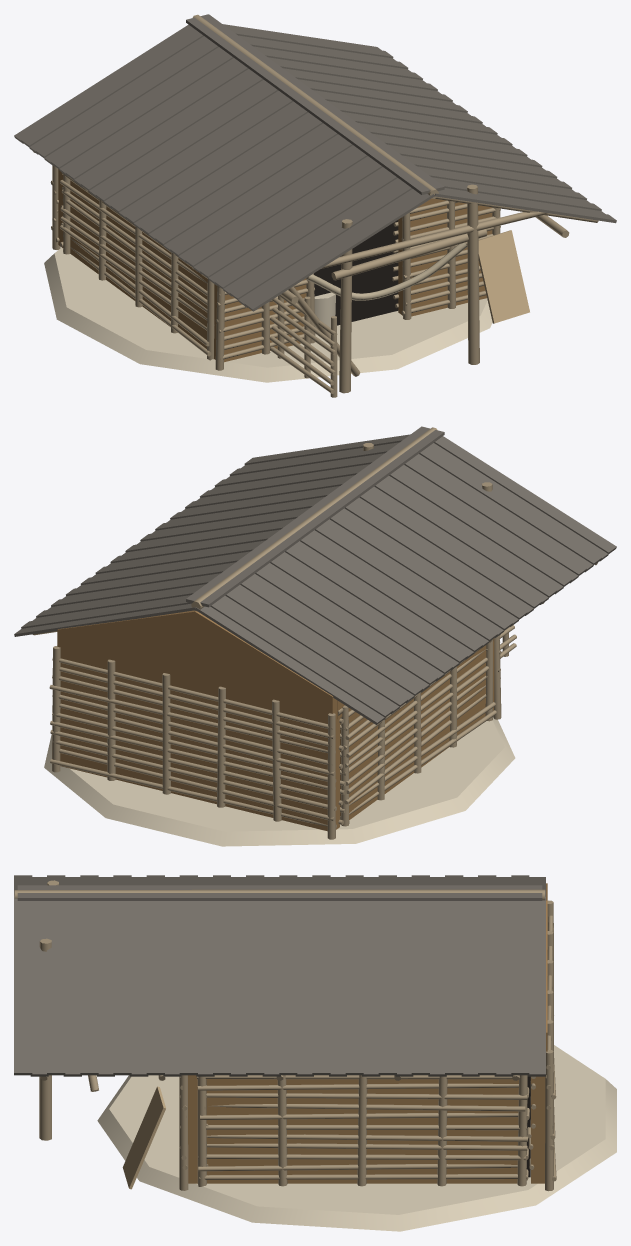
The model's file is bahareque-house-medium.glb.
3 renders of one model, top to bottom at view 1: azimuth 30°, elevation 25°; view 2: azimuth 150°, elevation 25°; view 3: azimuth 270°, elevation 25°, orthographic. The views are drawn at different scales.
Visible parts, largest first — view 1: roof_left, roof_right, ground, ridge_cap, wall_left_daub, leaning_plank, interior, fence, wall_front_right_daub, wall_left, porch_post_r, wall_front_left_daub (+18 smaller); view 2: roof_left, roof_right, ground, wall_back_daub, gable_back, wall_back, ridge_cap, wall_left_daub, wall_left, ridge_beam, wall_back_stick_1_o, wall_back_stick_3_o (+18 smaller); view 3: roof_right, ground, wall_right_daub, ridge_cap, roof_left, wall_right, ridge_beam, wall_back, wall_right_stick_8_o, wall_right_stick_2_o, wall_right_stick_9_o, wall_right_stick_3_o (+12 smaller).
Part boxes in pixels (x1=…): roof_left: x1=14, y1=24, x2=434, y2=311; roof_right: x1=223, y1=24, x2=616, y2=223; ground: x1=44, y1=247, x2=492, y2=382; ridge_cap: x1=186, y1=14, x2=444, y2=194; wall_left_daub: x1=70, y1=180, x2=207, y2=348; leaning_plank: x1=478, y1=230, x2=529, y2=323; interior: x1=314, y1=220, x2=398, y2=325; fence: x1=269, y1=295, x2=337, y2=393; wall_front_right_daub: x1=398, y1=198, x2=492, y2=316; wall_left: x1=63, y1=173, x2=214, y2=360; porch_post_r: x1=467, y1=184, x2=479, y2=364; wall_front_left_daub: x1=214, y1=278, x2=306, y2=362; roof_left: x1=195, y1=436, x2=616, y2=724; roof_right: x1=14, y1=434, x2=410, y2=636; ground: x1=44, y1=717, x2=515, y2=846; wall_back_daub: x1=60, y1=654, x2=339, y2=831; gable_back: x1=57, y1=610, x2=337, y2=719; wall_back: x1=52, y1=646, x2=335, y2=839; ridge_cap: x1=186, y1=426, x2=444, y2=607; wall_left_daub: x1=340, y1=645, x2=486, y2=820; wall_left: x1=341, y1=639, x2=493, y2=826; ridge_beam: x1=191, y1=427, x2=437, y2=611; wall_back_stick_1_o: x1=59, y1=749, x2=335, y2=821; wall_back_stick_3_o: x1=50, y1=730, x2=327, y2=799; roof_right: x1=14, y1=895, x2=545, y2=1076; ground: x1=97, y1=1045, x2=616, y2=1231; wall_right_daub: x1=206, y1=1079, x2=518, y2=1183; ridge_cap: x1=17, y1=885, x2=542, y2=900; roof_left: x1=14, y1=875, x2=545, y2=896; wall_right: x1=197, y1=1075, x2=527, y2=1186; ridge_beam: x1=14, y1=889, x2=545, y2=900; wall_back: x1=545, y1=900, x2=553, y2=1191; wall_right_stick_8_o: x1=206, y1=1093, x2=527, y2=1099; wall_right_stick_2_o: x1=198, y1=1154, x2=525, y2=1160; wall_right_stick_9_o: x1=197, y1=1083, x2=518, y2=1090; wall_right_stick_3_o: x1=207, y1=1143, x2=527, y2=1150.
Size of the model in its own units: 8.91 by 4.31 by 10.23.
